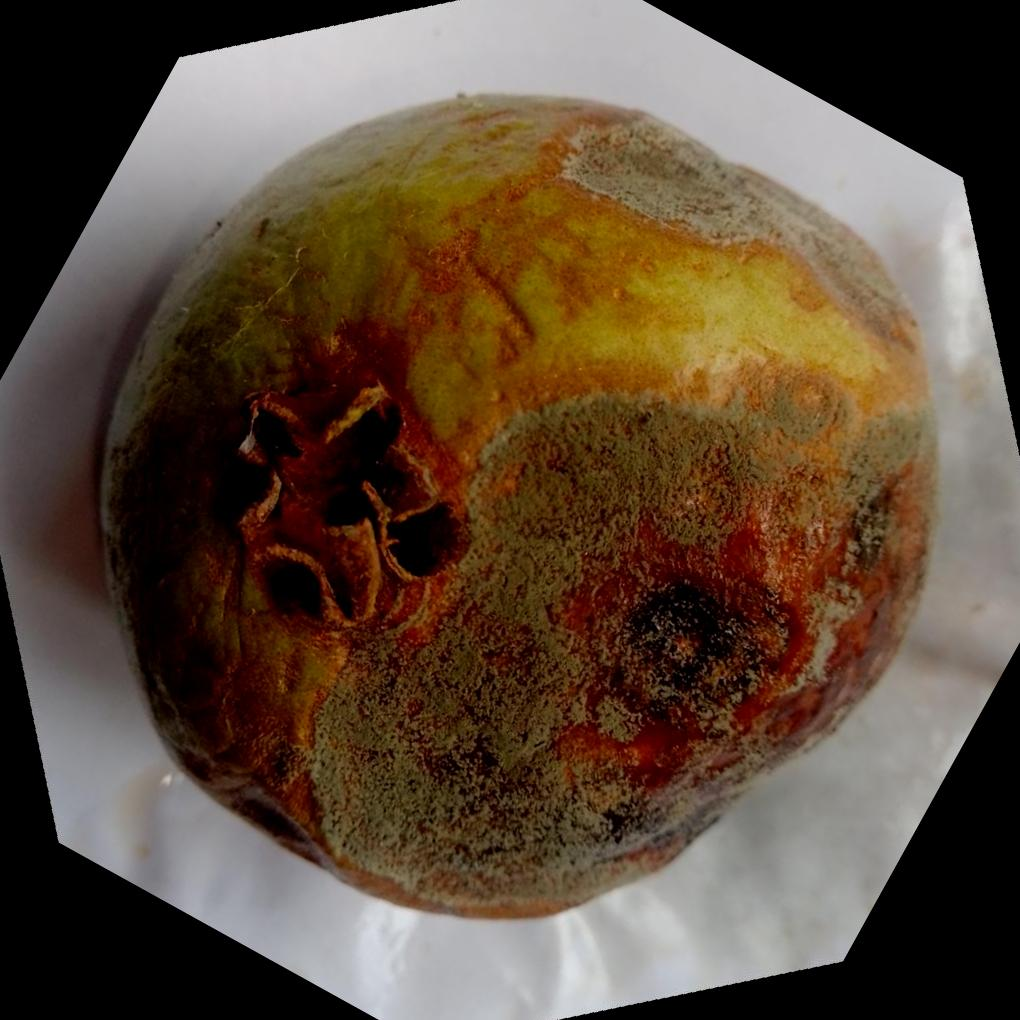FreshOrange: (90, 91, 939, 919)
